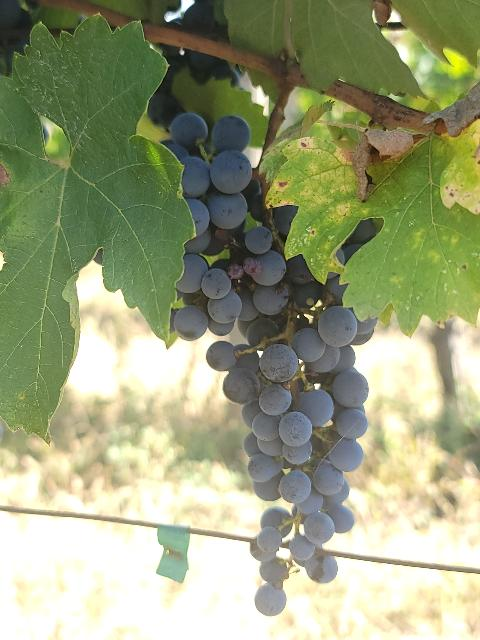grapes: (206, 255, 374, 615), (166, 112, 300, 340)
